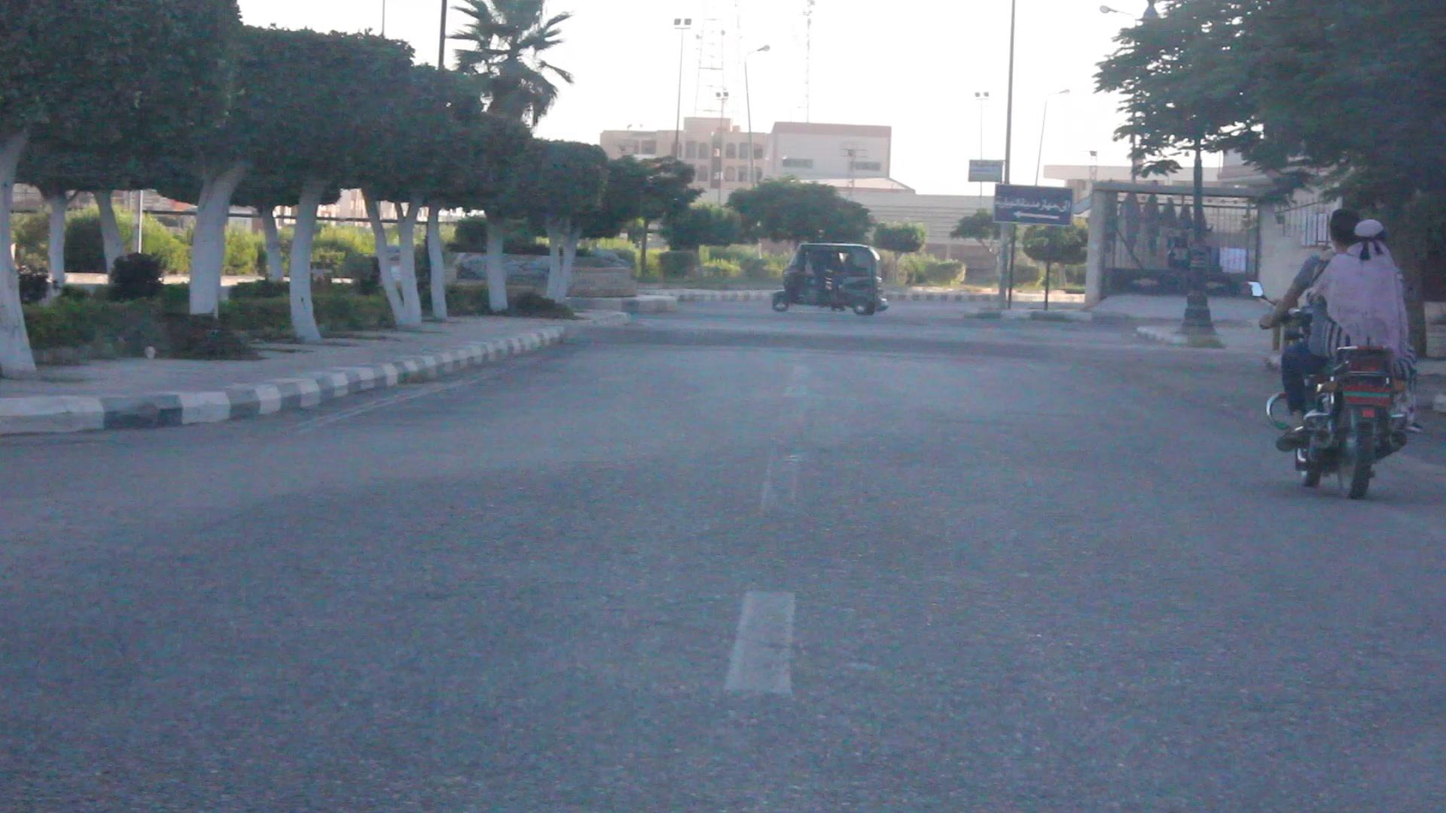Bump: (559, 322, 1279, 375)
